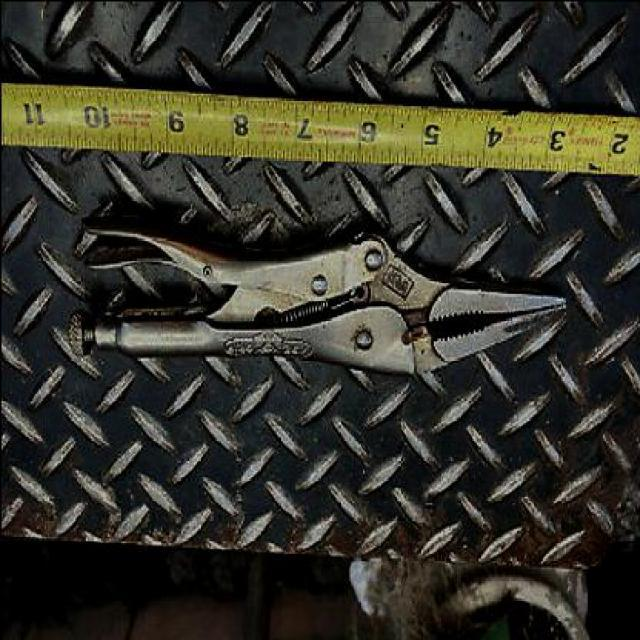pliers: (72, 207, 574, 376)
